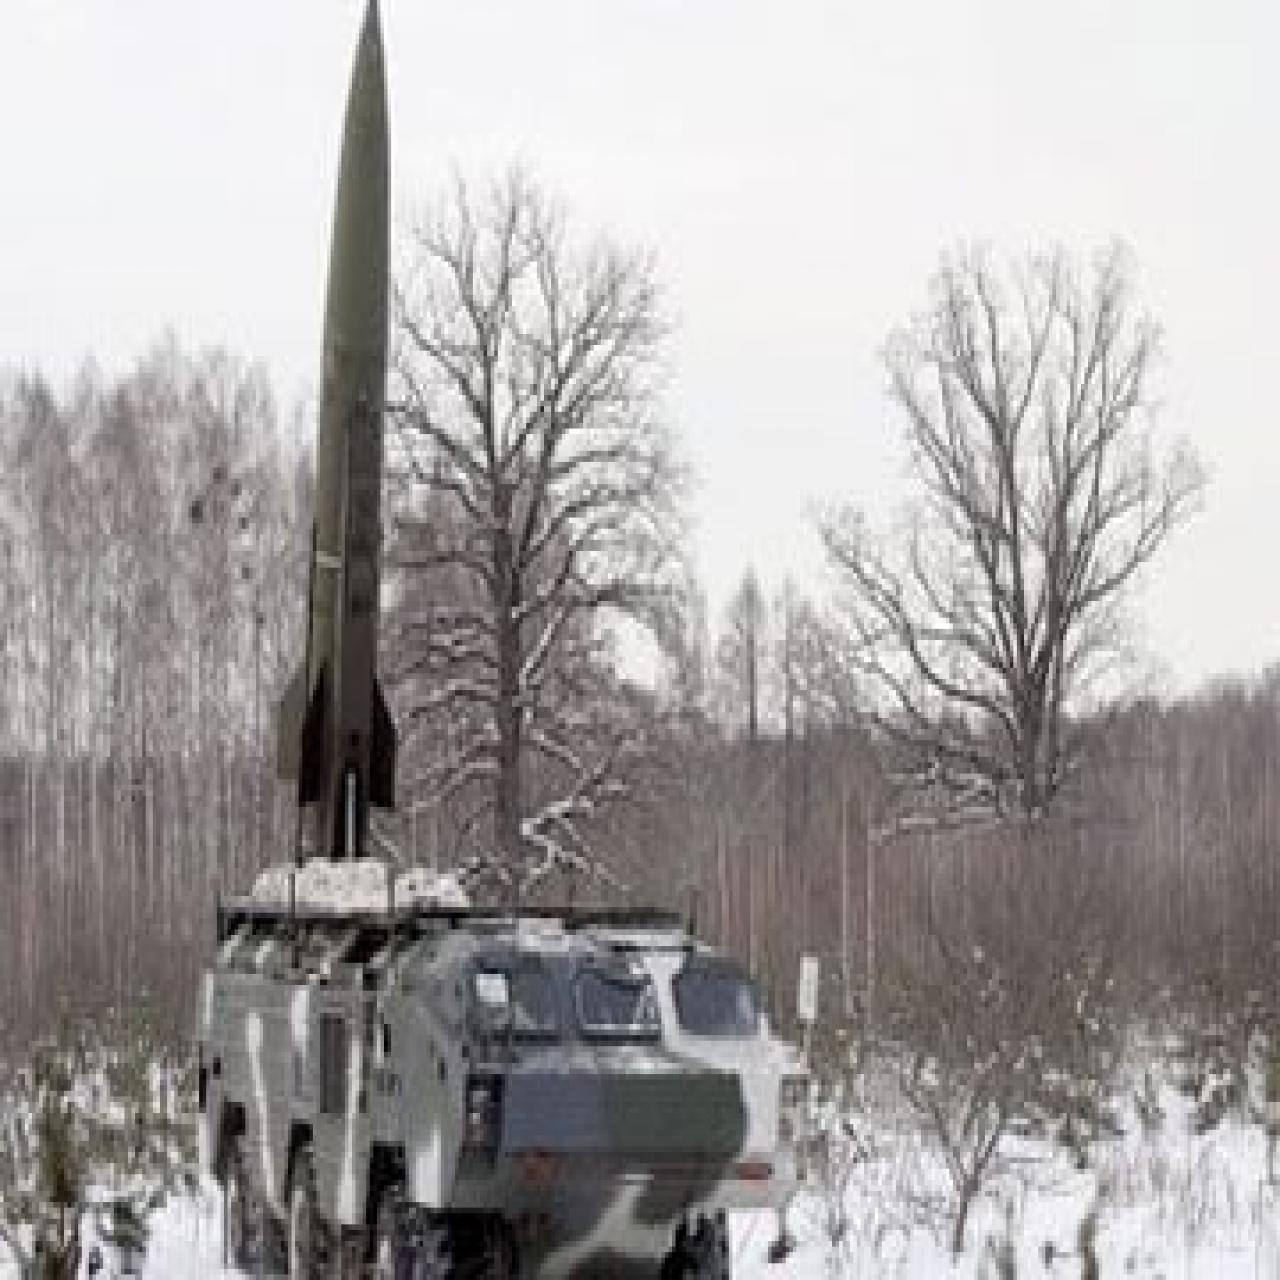MIL_Veh: (197, 0, 791, 1280)
